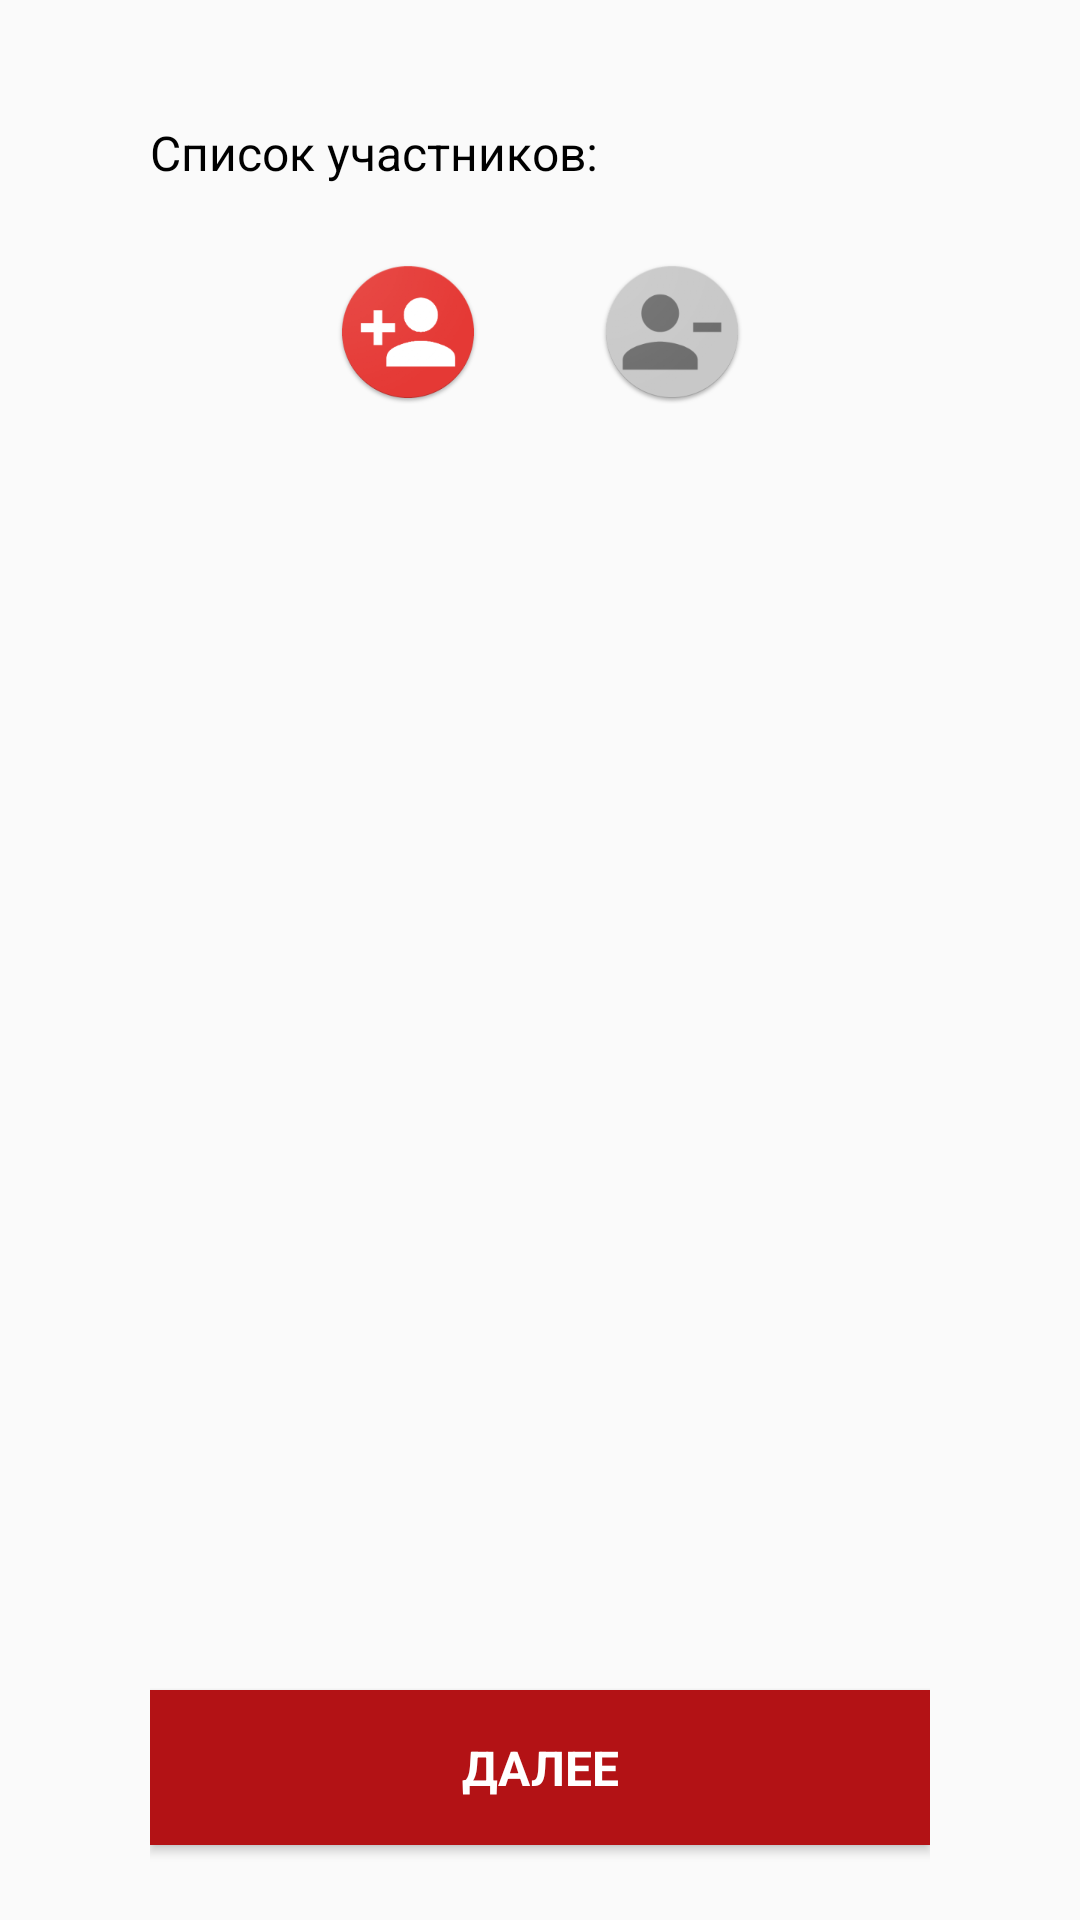

Point at icon controls on the screen. Image size 1080×1920, points as (x=x, y=y).
add person: (x=408, y=333)
delete person: (x=672, y=333)
